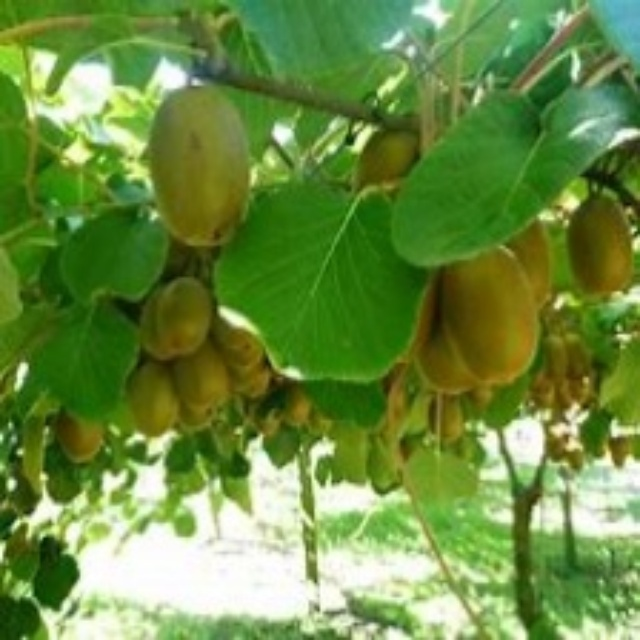kiwi: (130, 295, 270, 434), (425, 251, 555, 396), (141, 90, 257, 247), (572, 209, 635, 299)
